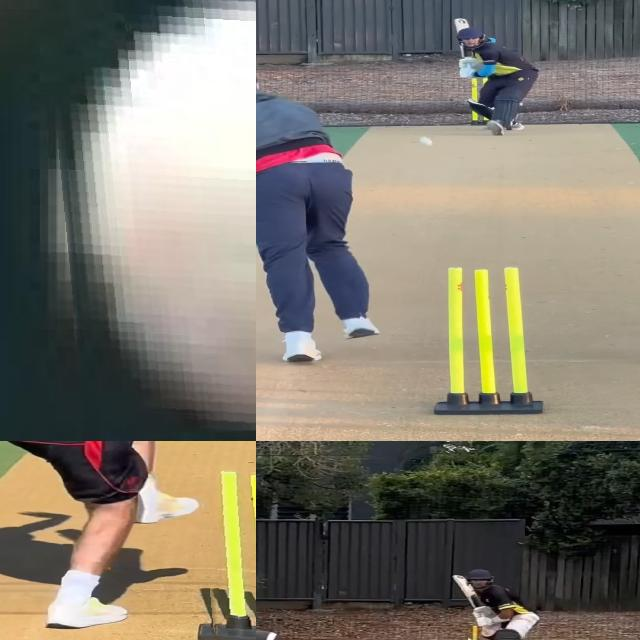Cricket ball: (41, 0, 256, 430), (417, 135, 435, 146)
Stumps: (431, 264, 546, 418), (198, 467, 256, 640), (467, 76, 498, 127)
